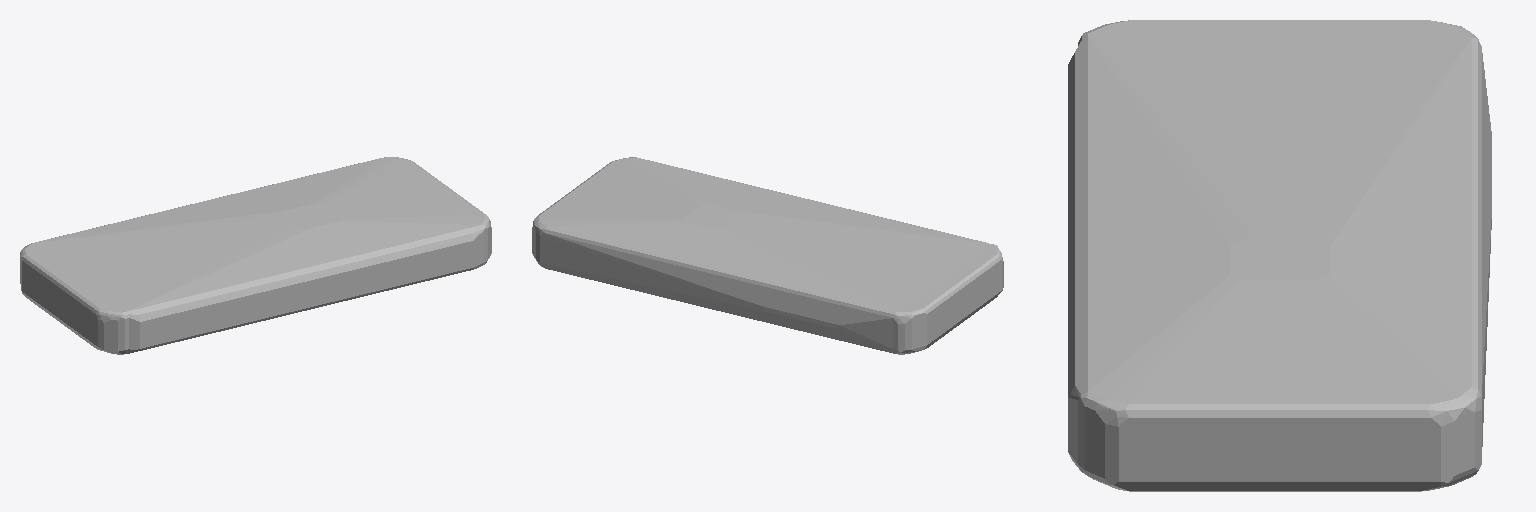
URDF robot description (root):
<robot name="root">
  <link name="link_coacd_convex_piece_0">
    <inertial>
      <origin xyz="0 0 0" rpy="0 0 0"/>
      <inertia ixx="1.49E-02" ixy="9.04E-05" ixz="-1.31E-04" iyy="6.49E-02" iyz="-2.84E-06" izz="7.81E-02"/>
    </inertial>
    <visual>
      <origin xyz="0 0 0" rpy="0 0 0"/>
      <geometry>
        <mesh filename="coacd_convex_piece_0.obj" scale="1.0000E+00 1.0000E+00 1.0000E+00"/>
      </geometry>
      <material name="">
        <color rgba="7.50E-01 7.50E-01 7.50E-01 1"/>
      </material>
    </visual>
    <collision>
      <origin xyz="0 0 0" rpy="0 0 0"/>
      <geometry>
        <mesh filename="coacd_convex_piece_0.obj" scale="1.0000E+00 1.0000E+00 1.0000E+00"/>
      </geometry>
    </collision>
  </link>
  <link name="link_coacd_convex_piece_1">
    <inertial>
      <origin xyz="0 0 0" rpy="0 0 0"/>
      <inertia ixx="1.85E-05" ixy="1.04E-07" ixz="-8.28E-05" iyy="5.45E-04" iyz="2.24E-08" izz="5.37E-04"/>
    </inertial>
    <visual>
      <origin xyz="0 0 0" rpy="0 0 0"/>
      <geometry>
        <mesh filename="coacd_convex_piece_1.obj" scale="1.0000E+00 1.0000E+00 1.0000E+00"/>
      </geometry>
      <material name="">
        <color rgba="7.50E-01 7.50E-01 7.50E-01 1"/>
      </material>
    </visual>
    <collision>
      <origin xyz="0 0 0" rpy="0 0 0"/>
      <geometry>
        <mesh filename="coacd_convex_piece_1.obj" scale="1.0000E+00 1.0000E+00 1.0000E+00"/>
      </geometry>
    </collision>
  </link>
  <joint name="link_coacd_convex_piece_1_joint" type="fixed">
    <origin xyz="0 0 0" rpy="0 0 0"/>
    <parent link="link_coacd_convex_piece_0"/>
    <child link="link_coacd_convex_piece_1"/>
  </joint>
  <link name="link_coacd_convex_piece_2">
    <inertial>
      <origin xyz="0 0 0" rpy="0 0 0"/>
      <inertia ixx="6.32E-04" ixy="-2.18E-05" ixz="2.53E-05" iyy="9.62E-03" iyz="7.40E-08" izz="1.02E-02"/>
    </inertial>
    <visual>
      <origin xyz="0 0 0" rpy="0 0 0"/>
      <geometry>
        <mesh filename="coacd_convex_piece_2.obj" scale="1.0000E+00 1.0000E+00 1.0000E+00"/>
      </geometry>
      <material name="">
        <color rgba="7.50E-01 7.50E-01 7.50E-01 1"/>
      </material>
    </visual>
    <collision>
      <origin xyz="0 0 0" rpy="0 0 0"/>
      <geometry>
        <mesh filename="coacd_convex_piece_2.obj" scale="1.0000E+00 1.0000E+00 1.0000E+00"/>
      </geometry>
    </collision>
  </link>
  <joint name="link_coacd_convex_piece_2_joint" type="fixed">
    <origin xyz="0 0 0" rpy="0 0 0"/>
    <parent link="link_coacd_convex_piece_1"/>
    <child link="link_coacd_convex_piece_2"/>
  </joint>
</robot>

--- Facts derived from the render (not from the file) ---
Views: 3 orthographic renders of the robot side by side, from view 1: azimuth 30°, elevation 25°; view 2: azimuth 150°, elevation 25°; view 3: azimuth 270°, elevation 25°.
Model root with 3 links and 2 joints (2 fixed), rooted at link_coacd_convex_piece_0, posed every joint at zero.
Links seen in each view (by area): view 1: link_coacd_convex_piece_0, link_coacd_convex_piece_2; view 2: link_coacd_convex_piece_0, link_coacd_convex_piece_2; view 3: link_coacd_convex_piece_0, link_coacd_convex_piece_2.
Boxes of the visible links, <box> form: link_coacd_convex_piece_0: <box>34,157,491,353</box>; link_coacd_convex_piece_2: <box>20,243,128,354</box>; link_coacd_convex_piece_0: <box>532,157,988,353</box>; link_coacd_convex_piece_2: <box>893,244,1003,354</box>; link_coacd_convex_piece_0: <box>1068,38,1491,491</box>; link_coacd_convex_piece_2: <box>1078,20,1479,45</box>.
Size in the robot's own frame: 1.86 by 0.8497 by 0.2428 metres.
3 mesh visuals loaded from 3 distinct referenced files (3 OBJ).
